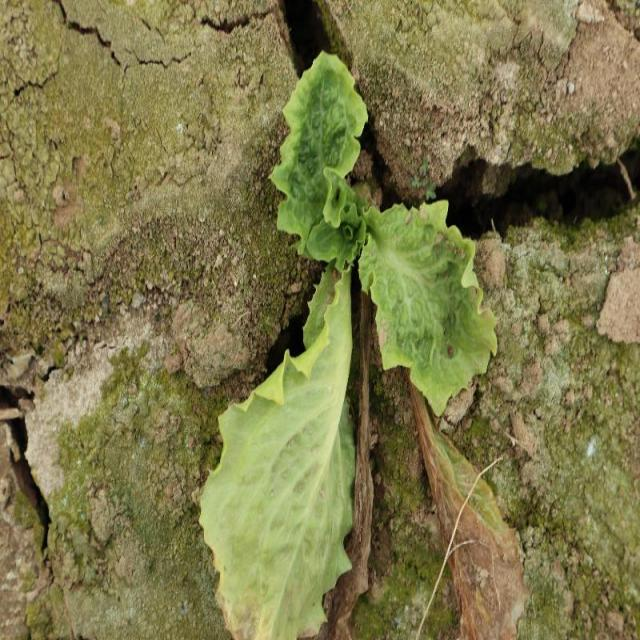crop: (204, 47, 502, 640)
